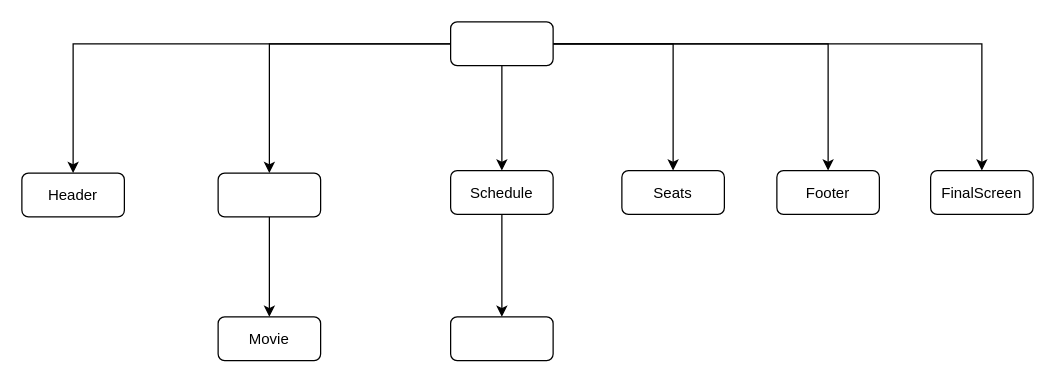
The diagram is 1055 pixels wide and 383 high, and some of its shapes have lost their labels. The box of each missing label's shape, as (x1, y1, x2, y2) in pixels:
App: (449, 21, 553, 66)
DayOptions: (449, 316, 553, 361)
Home: (217, 172, 321, 217)
